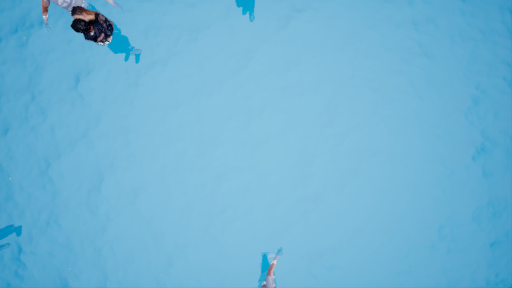person: (66, 8, 145, 67)
